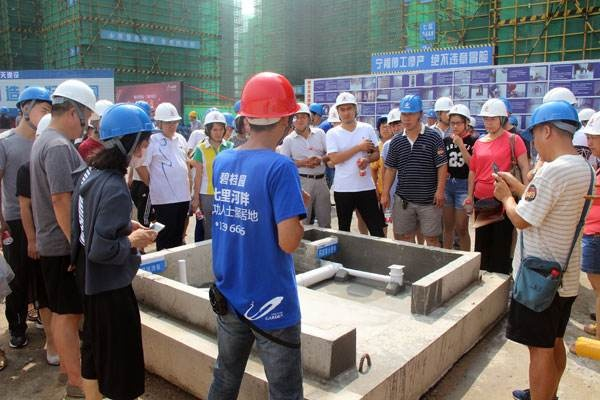blue: (95, 103, 155, 168), (526, 101, 580, 161), (15, 85, 53, 130), (397, 93, 424, 131), (307, 100, 324, 126)
red: (240, 71, 293, 146)
white: (49, 76, 95, 139), (478, 98, 508, 134), (154, 100, 180, 136), (583, 107, 600, 154), (446, 103, 470, 136), (335, 90, 357, 123), (203, 110, 226, 141), (291, 100, 310, 133), (434, 96, 453, 123), (386, 106, 402, 132)
